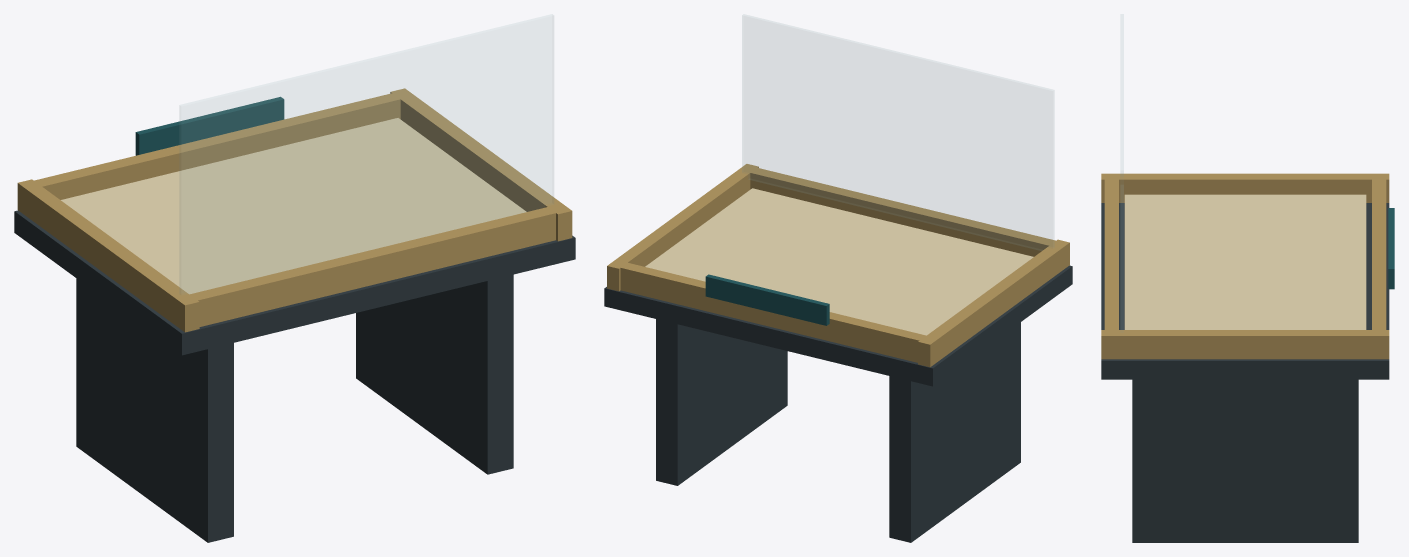
File: VIC_E06_DOCUMENT_DESK_Roblox.fbx
The picture shows the model from 3 angles, left to right: view 1: azimuth 30°, elevation 25°; view 2: azimuth 150°, elevation 25°; view 3: azimuth 270°, elevation 25°; orthographic projection. The views are drawn at different scales.
Visible parts, largest first — view 1: VIC_E06_DOCUMENT_DESK__Glass, VIC_E06_DOCUMENT_DESK__Charcoal, VIC_E06_DOCUMENT_DESK__Paper, VIC_E06_DOCUMENT_DESK__Brass, VIC_E06_DOCUMENT_DESK__Teal; view 2: VIC_E06_DOCUMENT_DESK__Glass, VIC_E06_DOCUMENT_DESK__Charcoal, VIC_E06_DOCUMENT_DESK__Paper, VIC_E06_DOCUMENT_DESK__Brass, VIC_E06_DOCUMENT_DESK__Teal; view 3: VIC_E06_DOCUMENT_DESK__Charcoal, VIC_E06_DOCUMENT_DESK__Paper, VIC_E06_DOCUMENT_DESK__Brass, VIC_E06_DOCUMENT_DESK__Glass, VIC_E06_DOCUMENT_DESK__Teal.
Boxes of the visible parts, x1=… form: VIC_E06_DOCUMENT_DESK__Glass: x1=180, y1=14, x2=553, y2=293; VIC_E06_DOCUMENT_DESK__Charcoal: x1=14, y1=210, x2=575, y2=542; VIC_E06_DOCUMENT_DESK__Paper: x1=61, y1=118, x2=526, y2=294; VIC_E06_DOCUMENT_DESK__Brass: x1=17, y1=88, x2=572, y2=332; VIC_E06_DOCUMENT_DESK__Teal: x1=135, y1=96, x2=284, y2=155; VIC_E06_DOCUMENT_DESK__Glass: x1=742, y1=14, x2=1053, y2=250; VIC_E06_DOCUMENT_DESK__Charcoal: x1=604, y1=265, x2=1072, y2=542; VIC_E06_DOCUMENT_DESK__Paper: x1=645, y1=188, x2=1033, y2=335; VIC_E06_DOCUMENT_DESK__Brass: x1=607, y1=164, x2=1069, y2=367; VIC_E06_DOCUMENT_DESK__Teal: x1=705, y1=274, x2=829, y2=325; VIC_E06_DOCUMENT_DESK__Charcoal: x1=1101, y1=203, x2=1389, y2=542; VIC_E06_DOCUMENT_DESK__Paper: x1=1124, y1=194, x2=1366, y2=329; VIC_E06_DOCUMENT_DESK__Brass: x1=1101, y1=173, x2=1389, y2=359; VIC_E06_DOCUMENT_DESK__Glass: x1=1121, y1=14, x2=1123, y2=329; VIC_E06_DOCUMENT_DESK__Teal: x1=1388, y1=208, x2=1394, y2=289.
Bounding box in the file's own units: 3.8 × 4.15 × 2.85.
